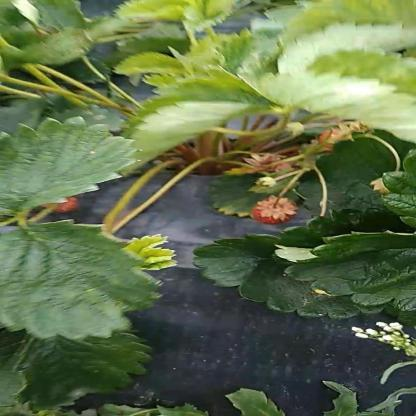ripe: (250, 197, 302, 224), (32, 190, 82, 216)
